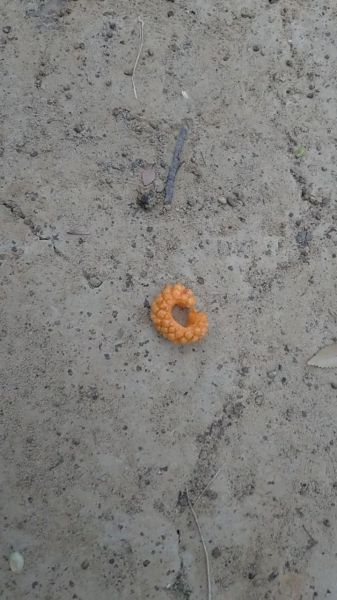eggs: (147, 278, 215, 353)
